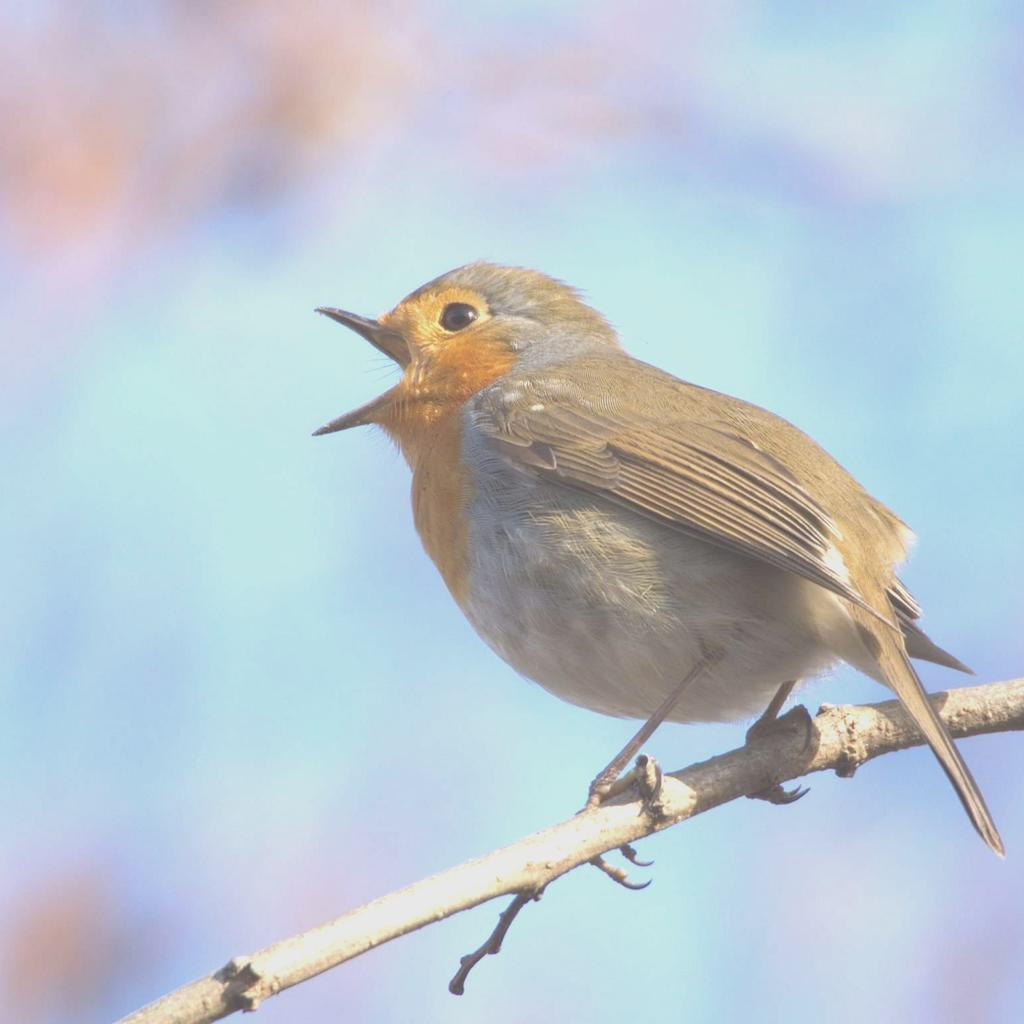ErithacusRubecula: (310, 260, 1007, 857)
